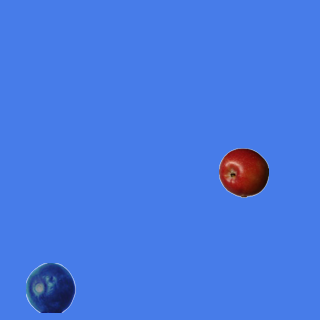Apple Braeburn: (218, 147, 268, 197)
Huckleberry: (25, 262, 75, 312)
